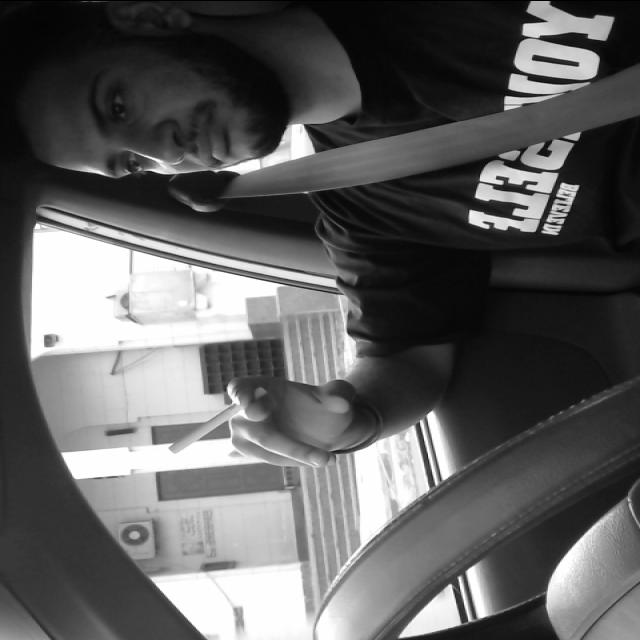smoking: (170, 386, 262, 453)
